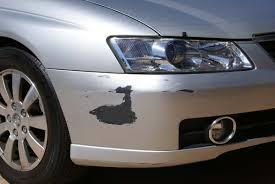scratch: (83, 69, 204, 136)
